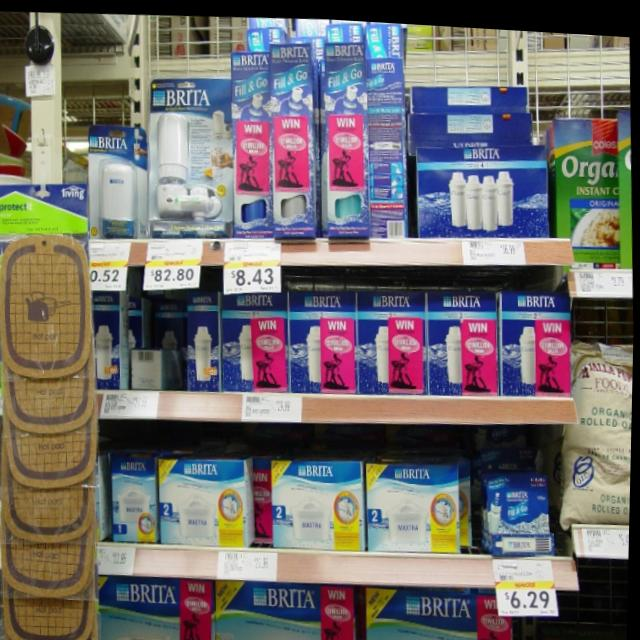q220: (155, 444, 258, 555), (369, 454, 469, 556), (269, 453, 367, 552)
